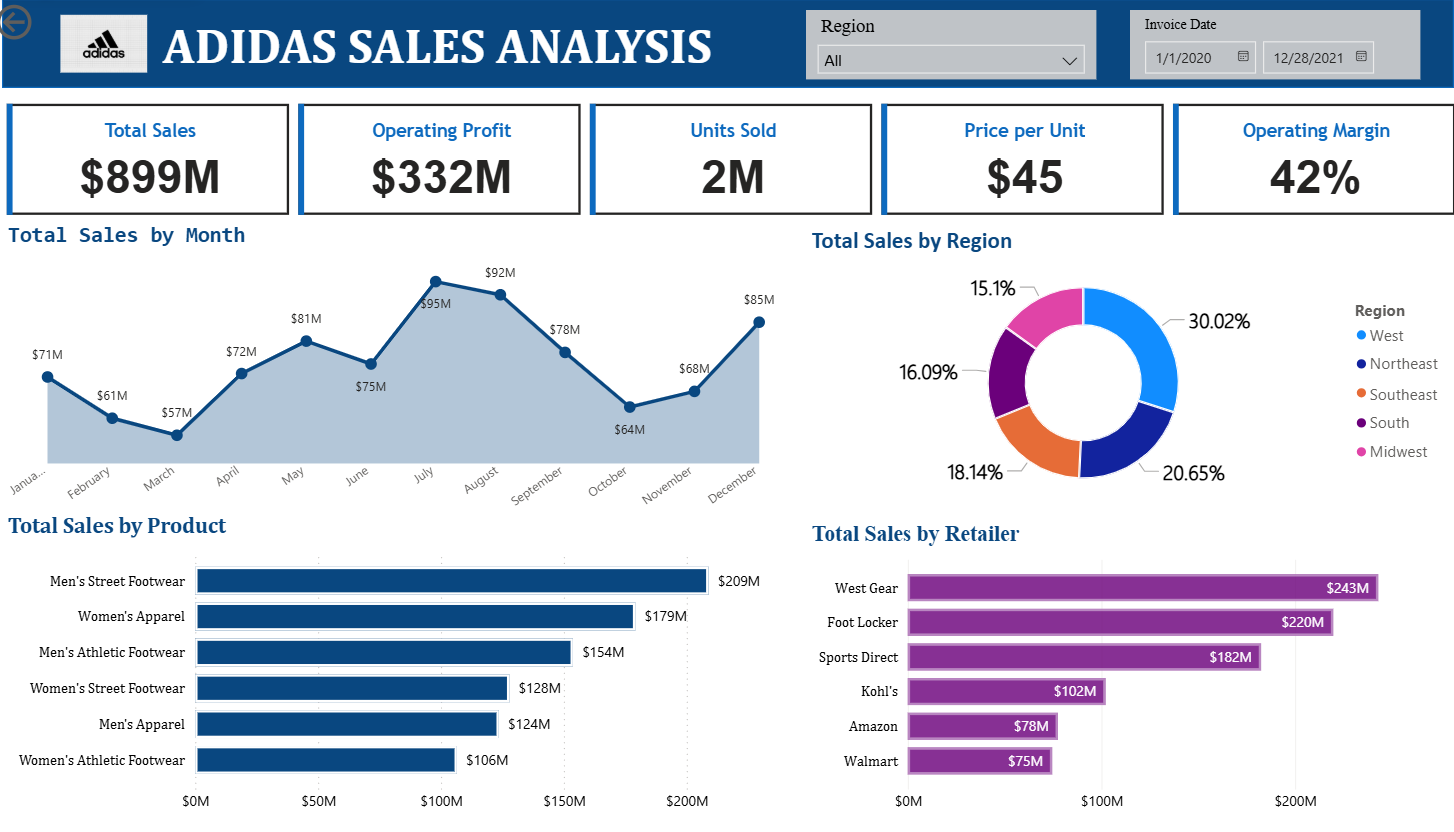

What the dashboard file says about the page in this screenshot:
{"tool":"powerbi","page":{"name":"Page 1","canvas":[1280,720],"ordinal":0},"visuals":[{"type":"shape","box":[9.7,0,1255,76.8],"z":0},{"type":"textbox","box":[134.2,9.7,517.5,60.3],"z":1000},{"type":"cardVisual","fields":{"Data":["Sum(Data Sales Adidas.Total Sales)","Sum(Data Sales Adidas.Operating Profit)","Sum(Data Sales Adidas.Units Sold)","Avg(Data Sales Adidas.Price per Unit)","Avg(Data Sales Adidas.Operating Margin)"]},"box":[8.8,85.6,1262.5,107],"z":2000},{"type":"areaChart","title":"Total Sales by Month","fields":{"Category":["Data Sales Adidas.Invoice Date.Variation.Date Hierarchy.Month"],"Y":["Sum(Data Sales Adidas.Total Sales)"]},"box":[9.7,192.6,681.8,258.7],"z":3000},{"type":"donutChart","title":"Total Sales by Region","fields":{"Y":["Sum(Data Sales Adidas.Total Sales)"],"Category":["Data Sales Adidas.Region"]},"box":[704.2,196.5,560.2,247.1],"z":4000},{"type":"barChart","title":"Total Sales by Product","fields":{"Category":["Data Sales Adidas.Product"],"Y":["Sum(Data Sales Adidas.Total Sales)"]},"box":[9.7,443.5,682.8,268.4],"z":5000},{"type":"actionButton","box":[0,0,100,40],"z":6000},{"type":"clusteredBarChart","title":"Total Sales by Retailer","fields":{"Category":["Data Sales Adidas.Retailer"],"Y":["Sum(Data Sales Adidas.Total Sales)"]},"box":[704.2,451.3,560.2,260.7],"z":7000},{"type":"slicer","fields":{"Values":["Data Sales Adidas.Invoice Date"]},"box":[984.3,9.7,250.9,60.3],"z":8000},{"type":"slicer","fields":{"Values":["Data Sales Adidas.Region"]},"box":[704.2,9.7,250.9,60.3],"z":9000},{"type":"image","box":[0,8.8,195,60.3],"z":10000}]}

Visuals, with their boxes in screenshot pixels (x1, y1, x2, y2), scaled from the page's 1280x720 canvas onto the 1454x832 screenshot:
shape: <region>11, 0, 1437, 89</region>
textbox: <region>152, 11, 740, 81</region>
cardVisual - Sum(Data Sales Adidas.Total Sales) x Sum(Data Sales Adidas.Operating Profit): <region>10, 99, 1444, 223</region>
"Total Sales by Month" areaChart: <region>11, 223, 786, 522</region>
"Total Sales by Region" donutChart: <region>800, 227, 1436, 513</region>
"Total Sales by Product" barChart: <region>11, 512, 787, 823</region>
actionButton: <region>0, 0, 114, 46</region>
"Total Sales by Retailer" clusteredBarChart: <region>800, 522, 1436, 823</region>
slicer - Data Sales Adidas.Invoice Date: <region>1118, 11, 1403, 81</region>
slicer - Data Sales Adidas.Region: <region>800, 11, 1085, 81</region>
image: <region>0, 10, 222, 80</region>
